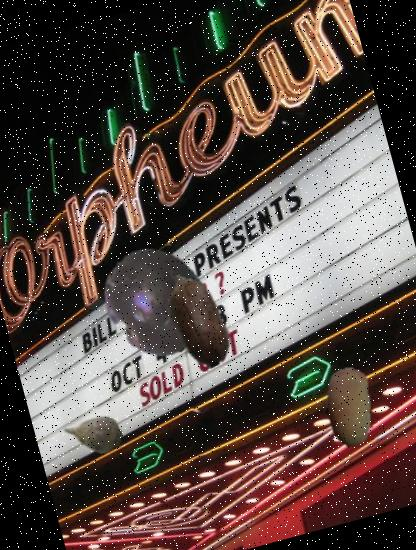Beetroot: (58, 396, 130, 470)
Nut: (139, 260, 258, 380)
Passion: (86, 232, 226, 372)
Peach: (299, 358, 396, 456)
